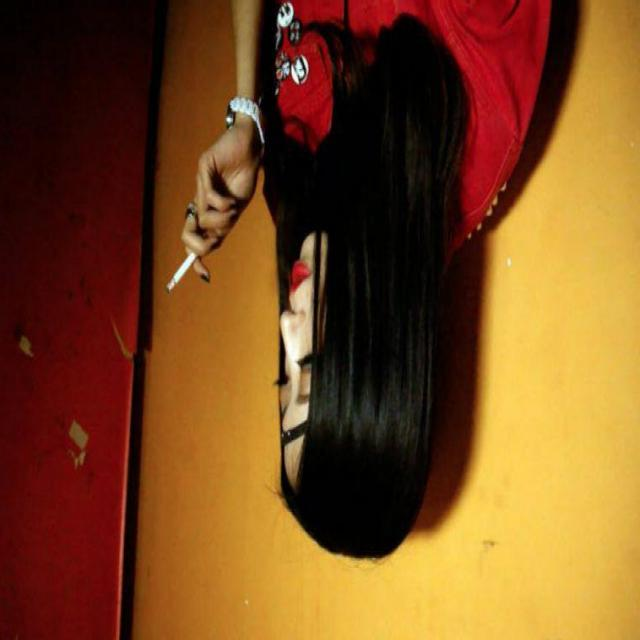cigarette: (160, 243, 198, 306)
